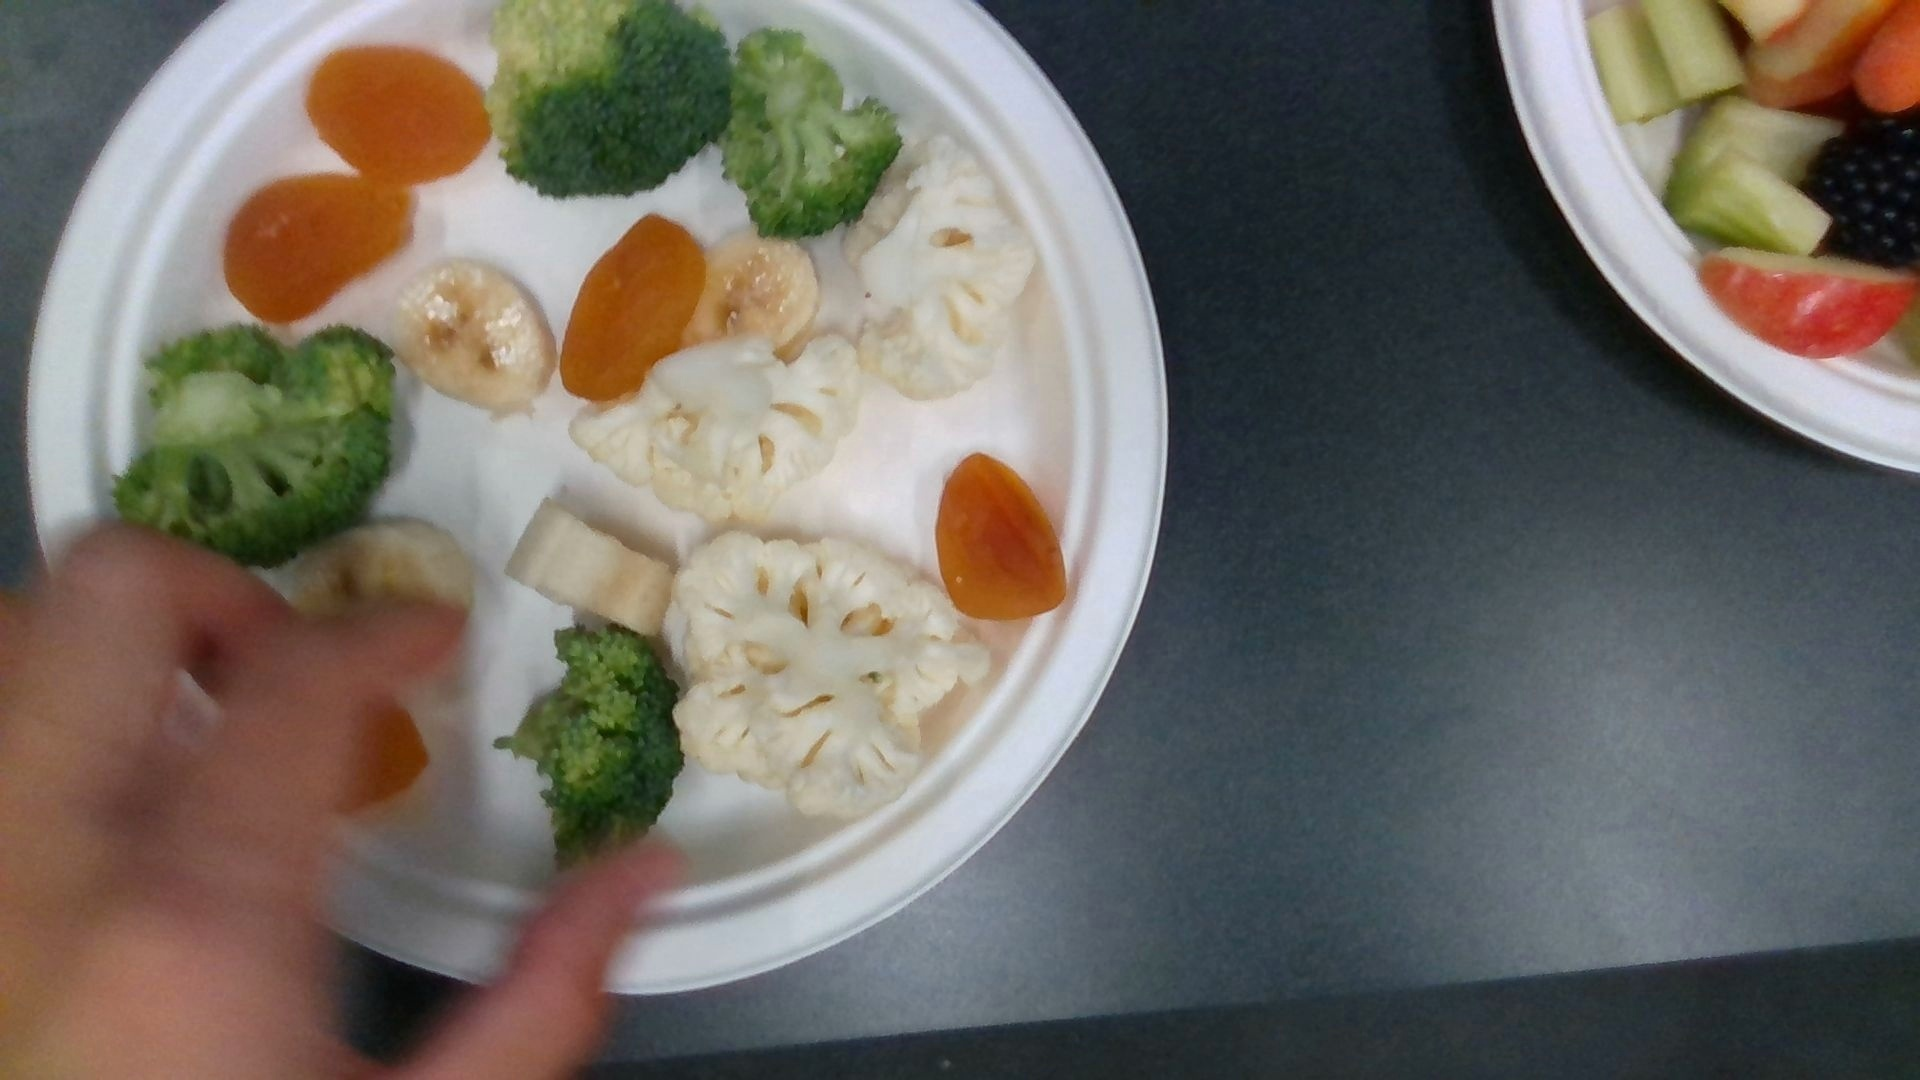apricot: (225, 178, 414, 324), (564, 216, 704, 401), (305, 51, 489, 179), (939, 456, 1067, 618)
banana: (400, 261, 554, 415), (505, 501, 675, 636), (687, 236, 820, 349)
broccoli: (113, 328, 392, 556), (495, 625, 680, 870), (495, 5, 731, 193), (723, 33, 899, 236)
cauliflower: (665, 531, 990, 810), (845, 136, 1036, 398), (568, 340, 852, 512)
